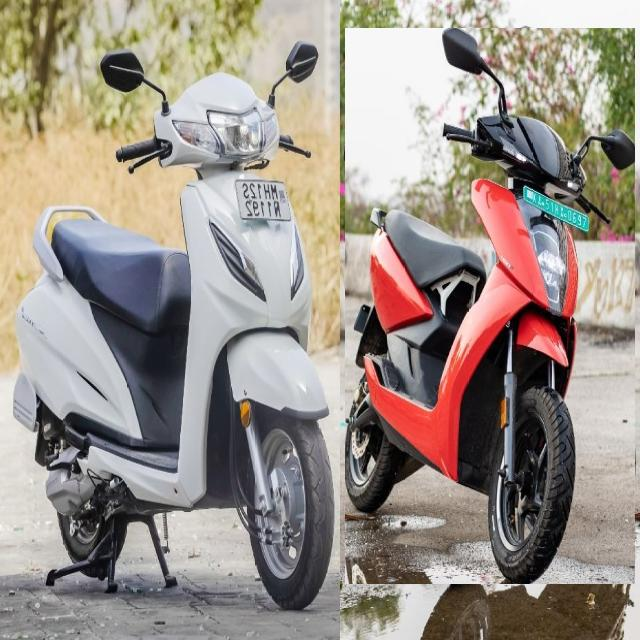motorcycle: (12, 41, 334, 610), (345, 28, 635, 584)
